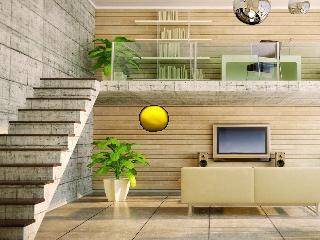lemon: (141, 107, 169, 132)
